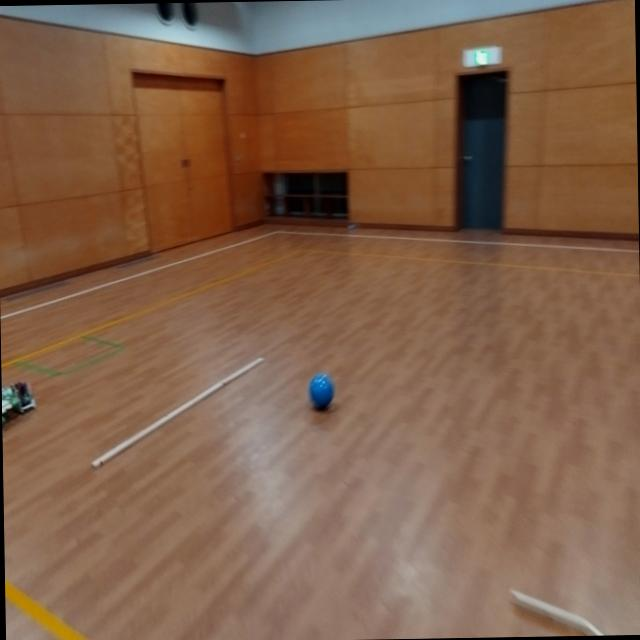blue_ball: (307, 370, 339, 415)
